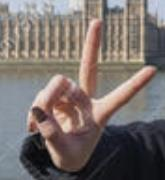front: (22, 13, 160, 173)
